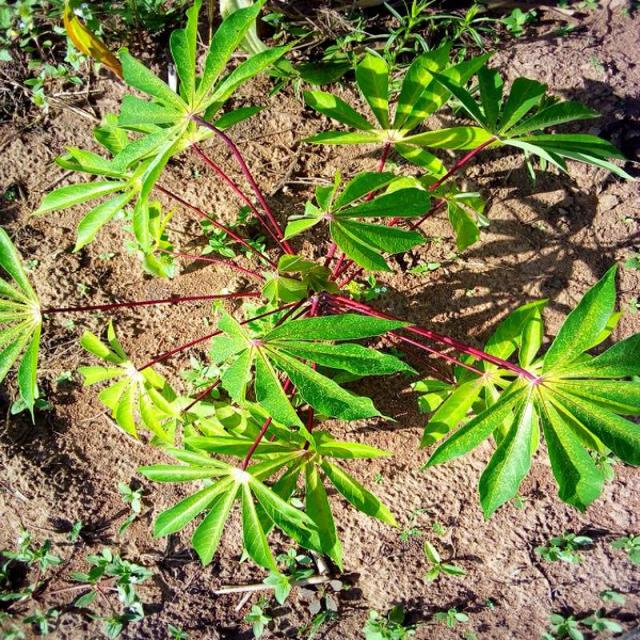cassava leaf: (416, 260, 640, 520), (1, 225, 44, 425)
